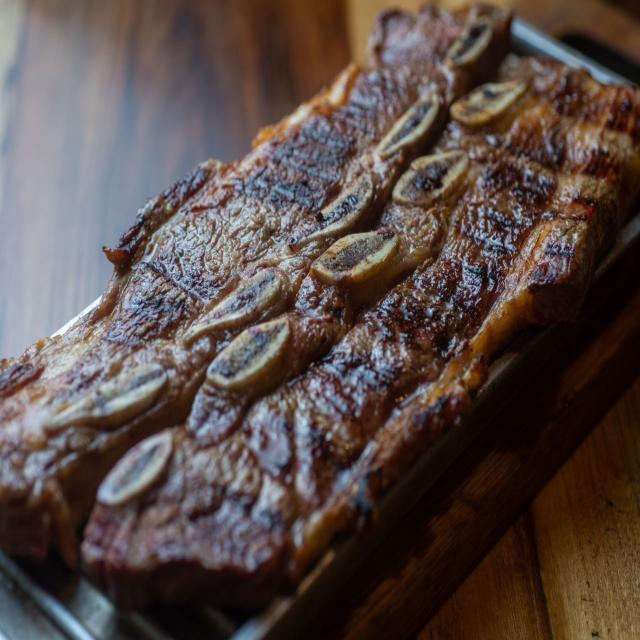carne de res: (7, 8, 638, 639)
